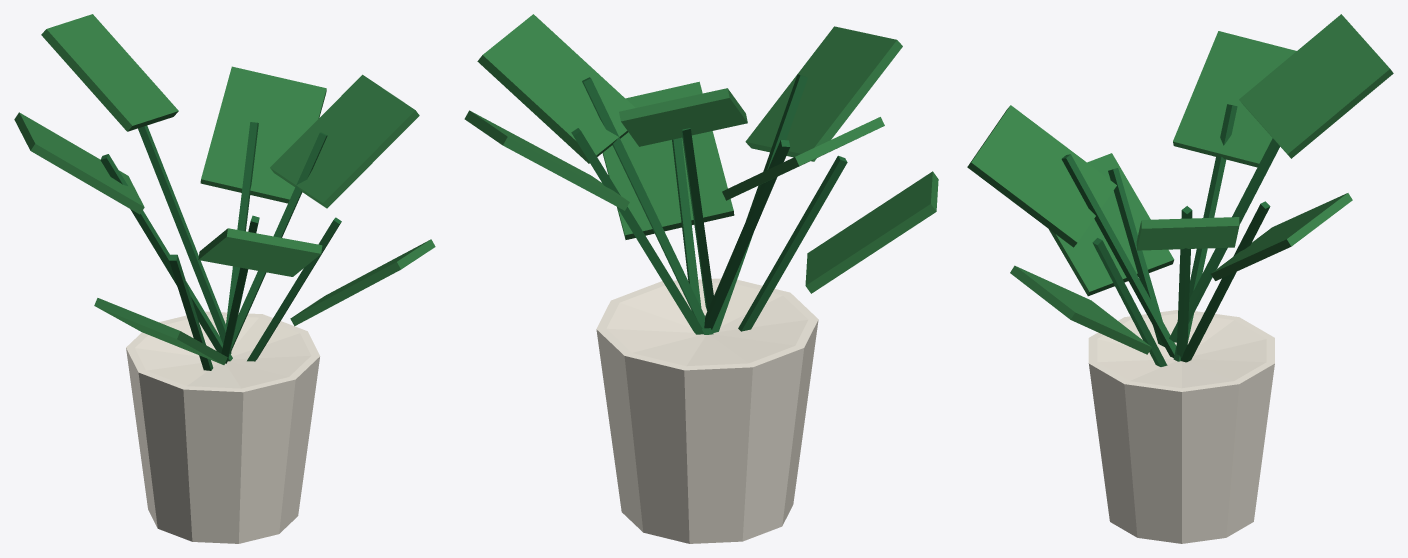
File: monstera_pot.glb
The picture shows the model from 3 angles, left to right: view 1: azimuth 30°, elevation 25°; view 2: azimuth 150°, elevation 25°; view 3: azimuth 270°, elevation 25°; orthographic projection. The views are drawn at different scales.
Parts seen in each view (by area): view 1: monstera_pot; view 2: monstera_pot; view 3: monstera_pot.
Boxes of the visible parts, bbox=[...] form: monstera_pot: bbox=[14, 14, 435, 543]; monstera_pot: bbox=[464, 14, 938, 543]; monstera_pot: bbox=[967, 14, 1393, 543].
Bounding box in the file's own units: 0.9119 × 1.12 × 0.9586.
